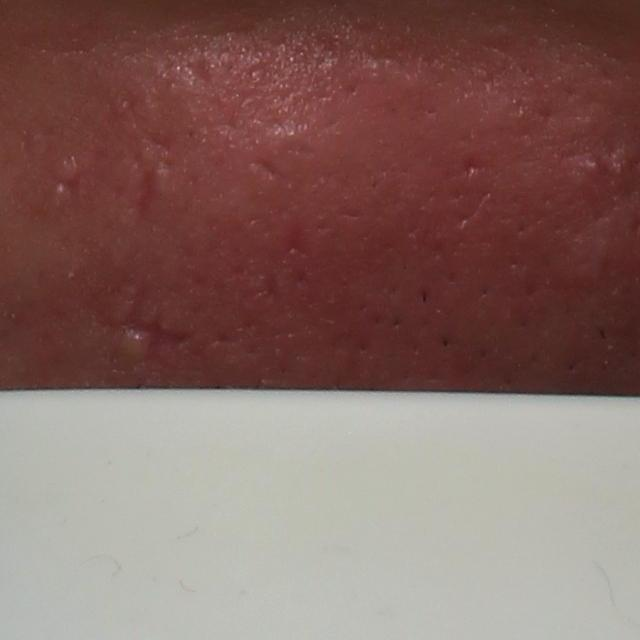atrophic_scar: (91, 269, 197, 367), (132, 159, 157, 223)
hypertrophic_scar: (115, 330, 155, 366), (149, 161, 178, 198), (48, 154, 79, 182)
